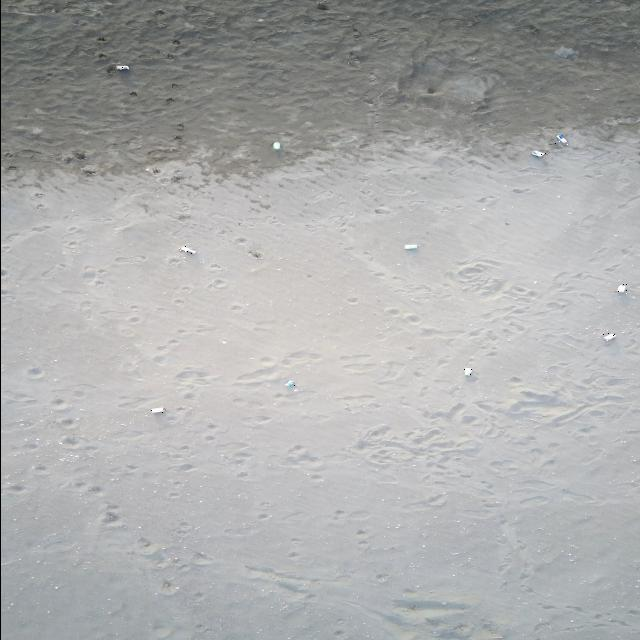Garbage: (553, 45, 576, 59), (553, 132, 567, 144), (179, 244, 195, 253), (248, 249, 261, 258), (616, 283, 627, 292), (316, 0, 327, 9), (604, 332, 615, 340), (284, 380, 295, 388), (115, 64, 127, 71), (532, 150, 546, 156), (272, 140, 280, 150), (404, 243, 417, 249), (150, 407, 163, 412), (464, 367, 472, 375)
